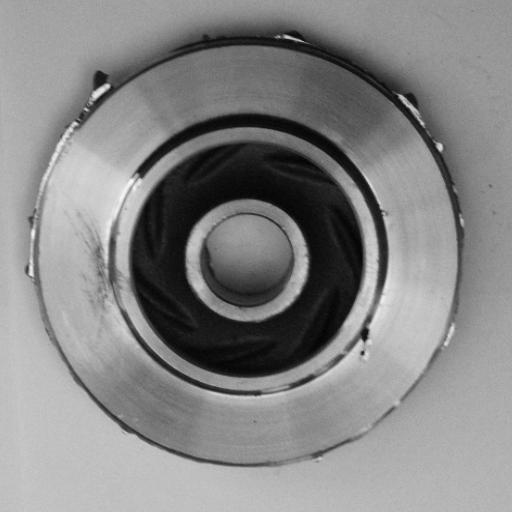casting_with_burr: (30, 26, 469, 472)
crack: (352, 305, 382, 371)
stain: (64, 208, 140, 334)
